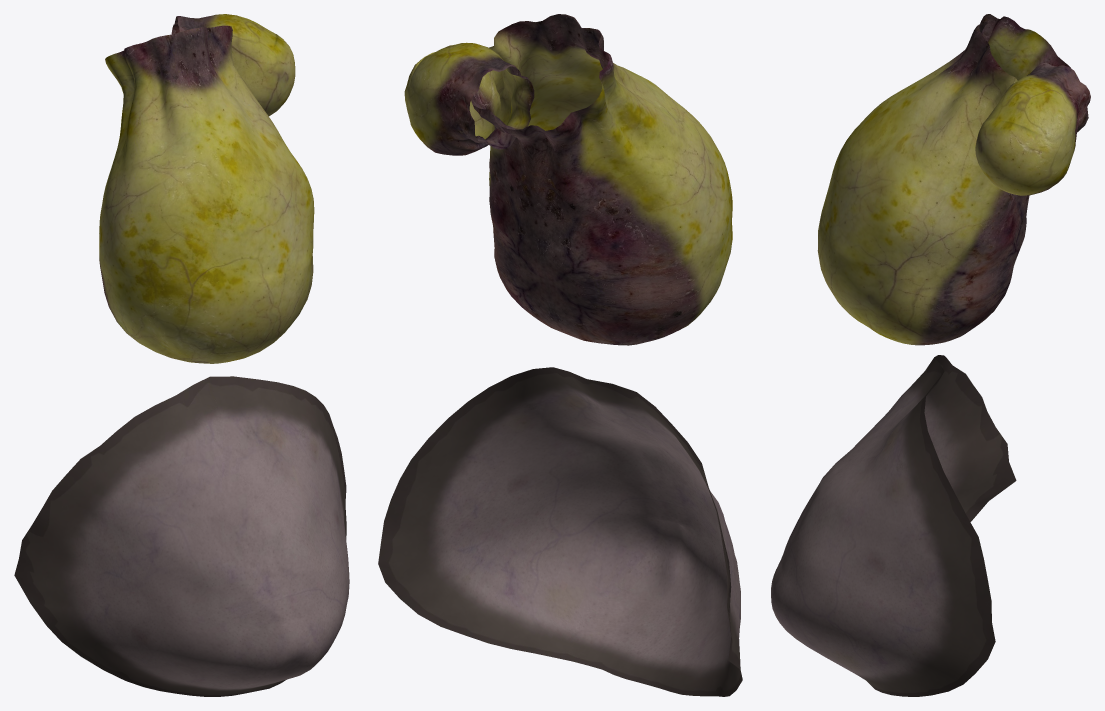
File: zombie_kit_spitter.glb
3 views of the same model, side by side, from view 1: azimuth 30°, elevation 25°; view 2: azimuth 150°, elevation 25°; view 3: azimuth 270°, elevation 25° (orthographic). The views are drawn at different scales.
Visible parts, largest first — view 1: Spine__Belly, Neck__GoitreSac, Neck__GoitreSmall; view 2: Spine__Belly, Neck__GoitreSac, Neck__GoitreSmall; view 3: Spine__Belly, Neck__GoitreSac, Neck__GoitreSmall.
Boxes of the visible parts, x1,y1,x2,y2 form: Spine__Belly: [14, 376, 349, 696]; Neck__GoitreSac: [99, 25, 314, 363]; Neck__GoitreSmall: [171, 14, 295, 116]; Spine__Belly: [378, 367, 742, 696]; Neck__GoitreSac: [471, 14, 732, 345]; Neck__GoitreSmall: [404, 42, 534, 155]; Spine__Belly: [771, 355, 1016, 696]; Neck__GoitreSac: [817, 14, 1070, 345]; Neck__GoitreSmall: [975, 62, 1090, 195].
Bounding box in the file's own units: 0.372 × 0.6946 × 0.3125.
2 materials, 2 textured.
